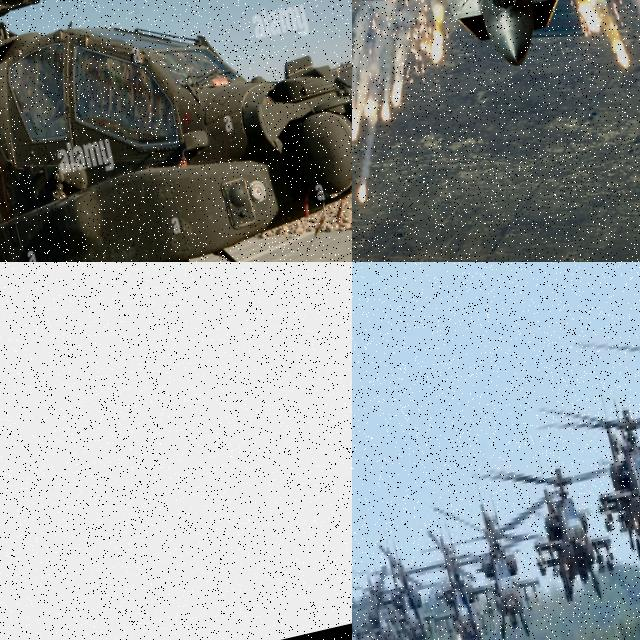Apache: (0, 0, 352, 262), (416, 467, 566, 640), (490, 439, 630, 622), (541, 366, 640, 584), (574, 262, 640, 548), (352, 526, 456, 640), (352, 554, 410, 640), (352, 566, 376, 640)
F22: (352, 0, 640, 99)
